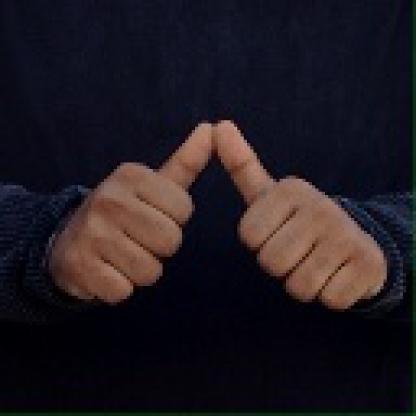A: (46, 113, 395, 307)
